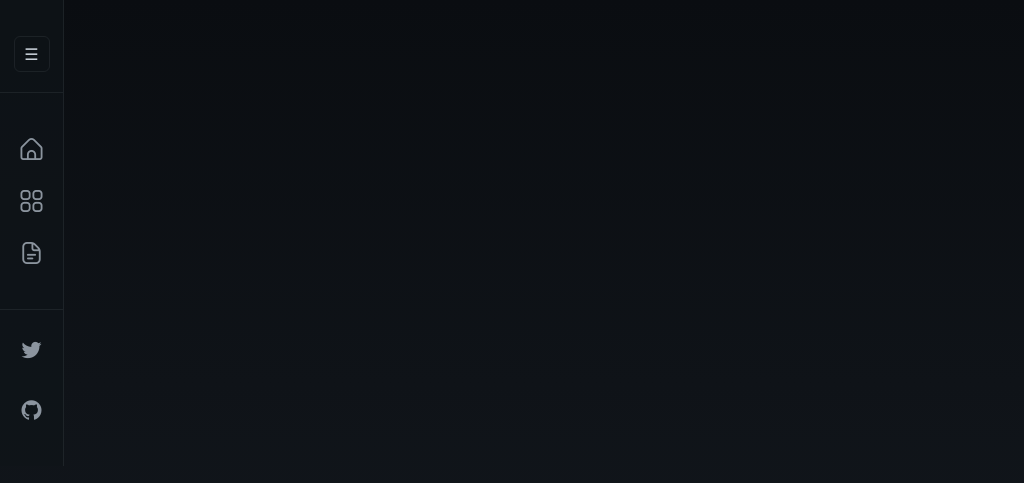
Test: menu button toggles aria-expanded
The width and height of the screenshot is (1024, 483).
Click the button titled "Open menu": (32, 54) [14,36,50,72]
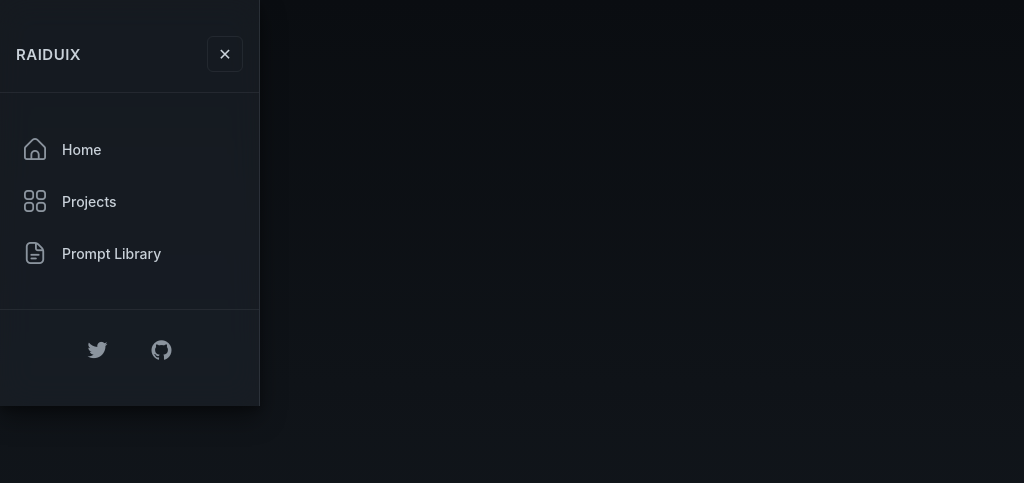
Expected: the button titled "Open menu" is expanded, [207,36,243,72]
